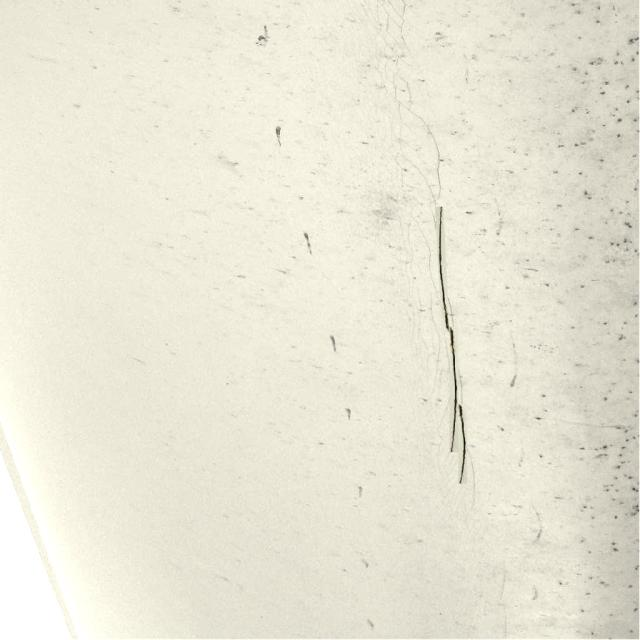crack: (434, 206, 472, 484)
